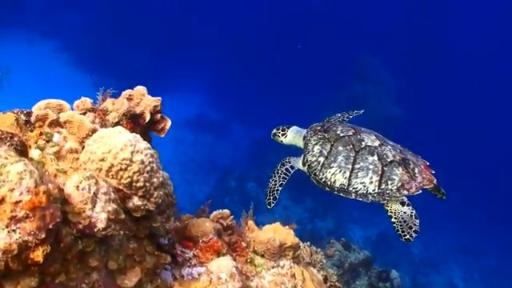Fish: (266, 110, 445, 242)
